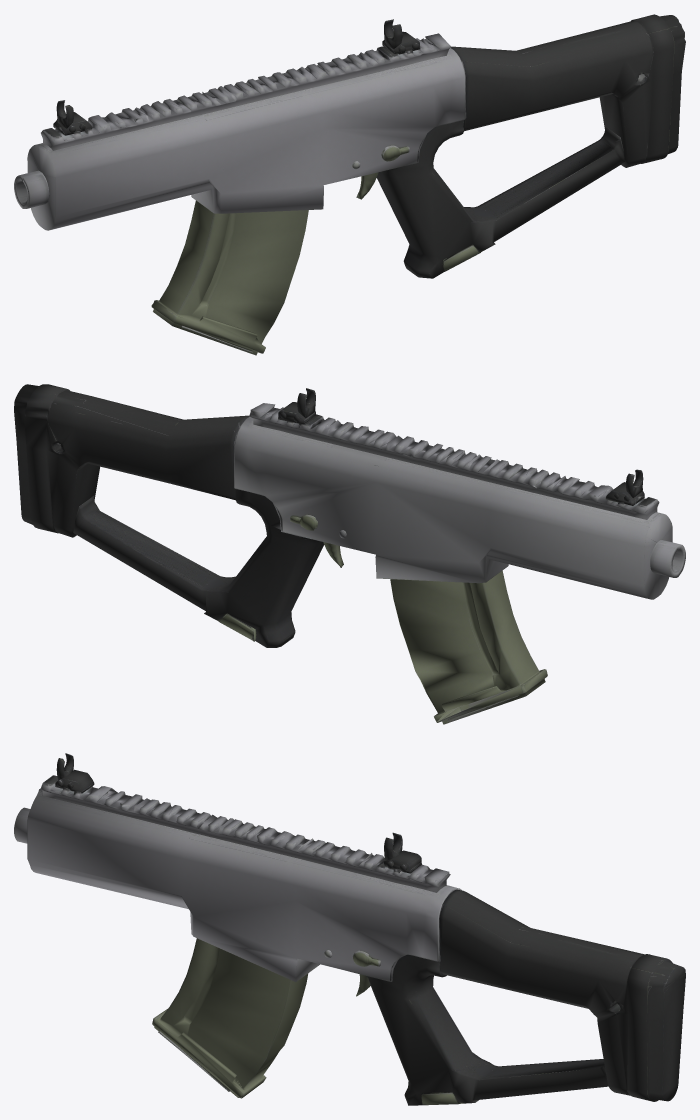
Rendered from smg_hornet.glb.
The picture shows the model from 3 angles, top to bottom: view 1: azimuth 30°, elevation 25°; view 2: azimuth 150°, elevation 25°; view 3: azimuth 330°, elevation 25°; orthographic projection.
Bounding box in the file's own units: 0.9565 × 0.4072 × 0.0776.
1 material, 1 textured.
